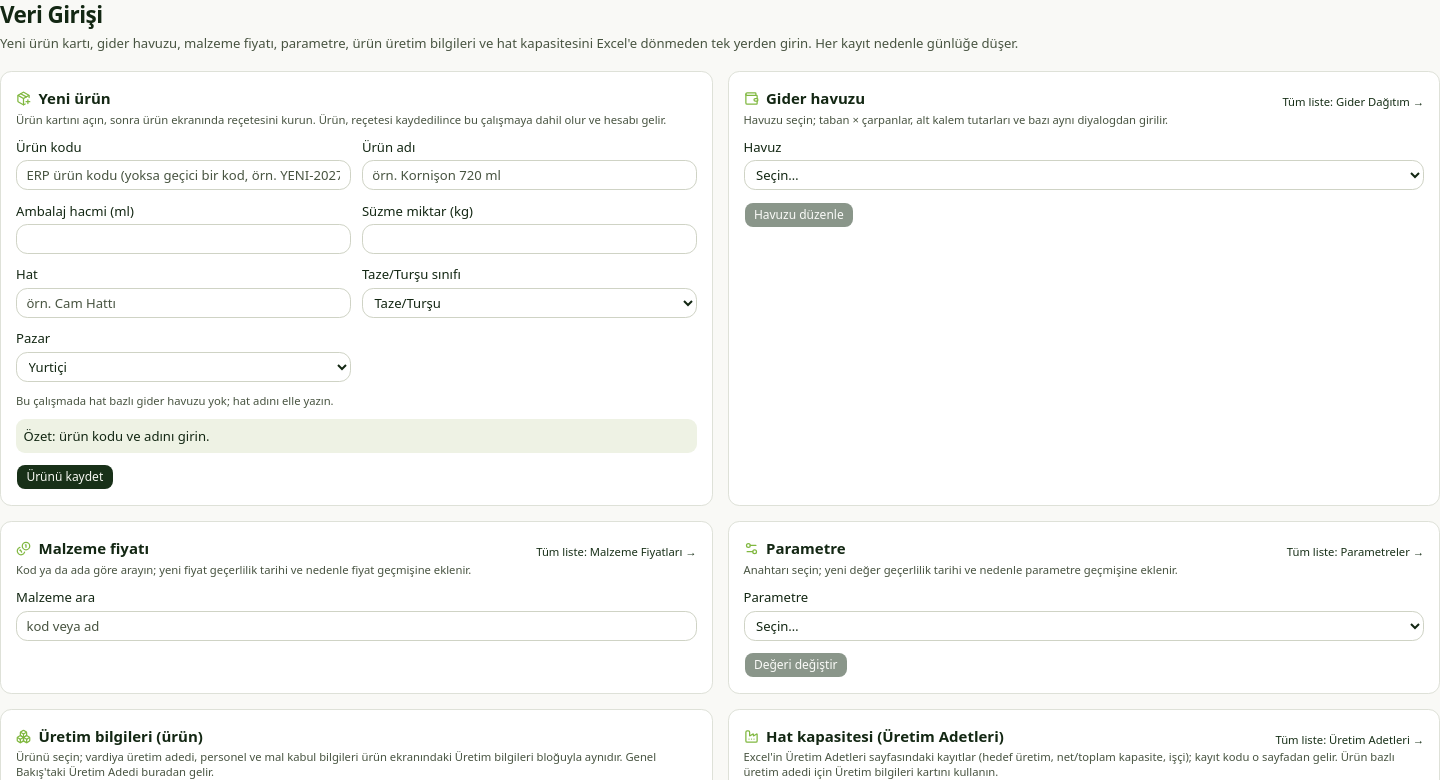
Scenario: VeriGirisi › parametre kartı: anahtar seç → değer + tarih + neden → kayıt ve sorgu tazeleme mesajı
Select "kur.USD — USD/TL kuru" in the dropdown labelled "Parametre" at (1084, 626), box [744,610,1424,640]
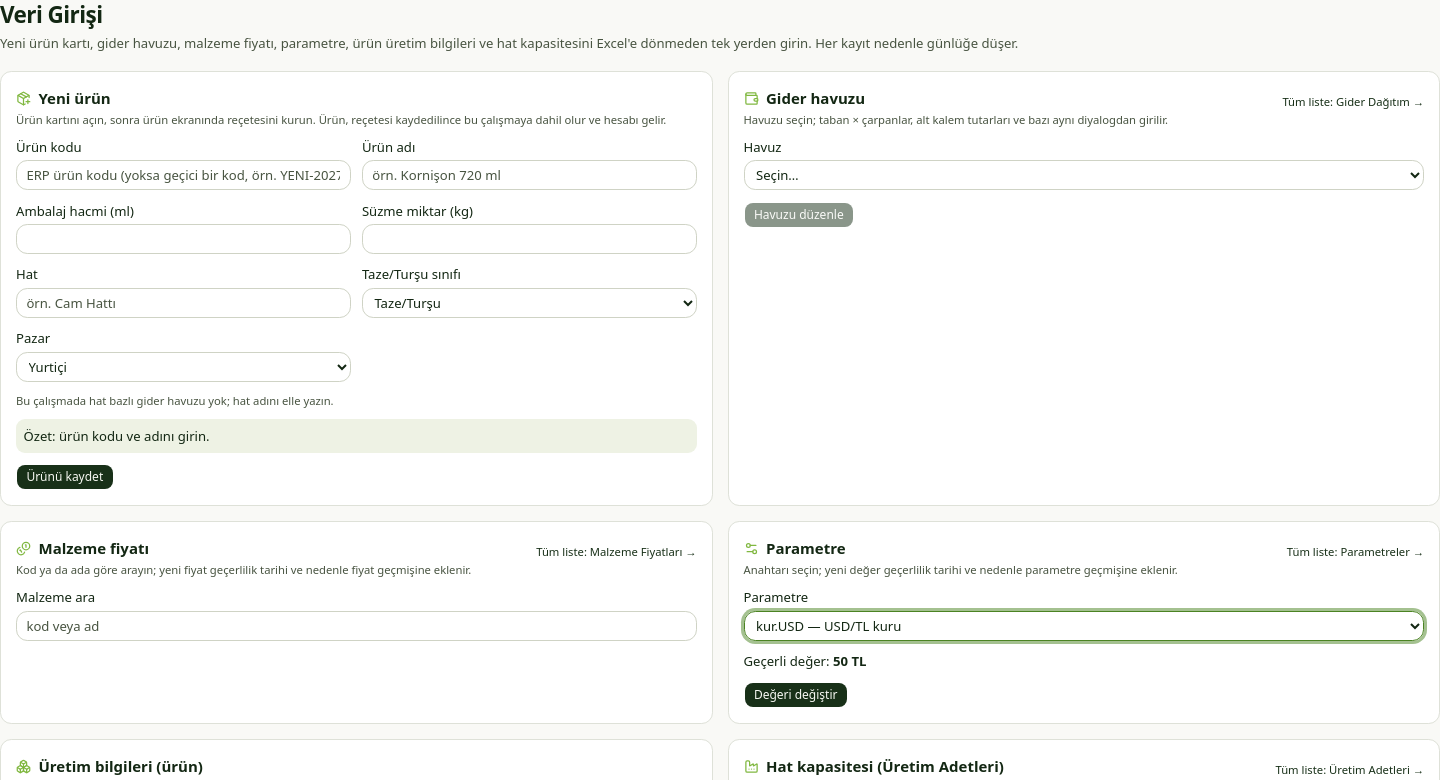
expect the text "Geçerli değer: 50 TL" is shown: met, box [744,652,866,670]
Click the button "Değeri değiştir".
click(796, 695)  # box [744,682,848,708]
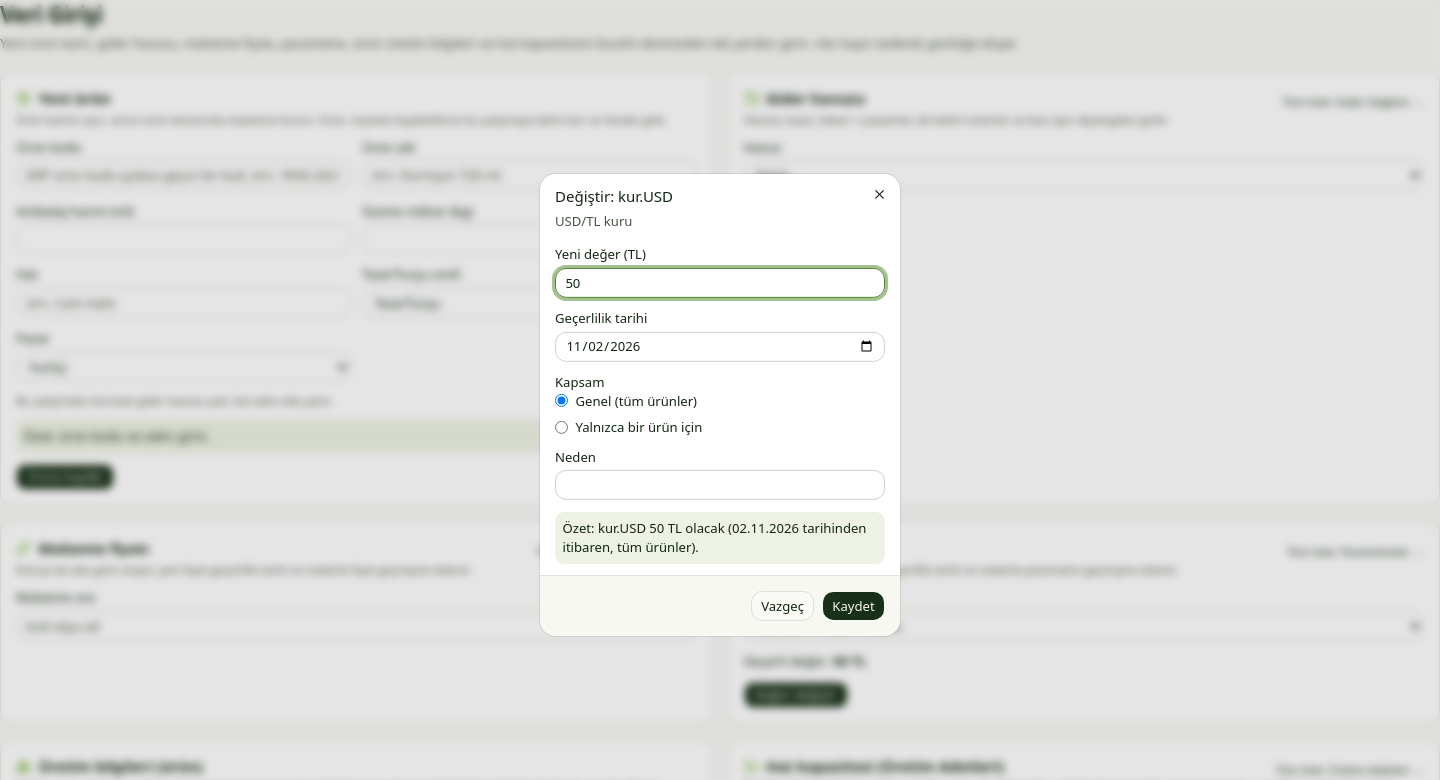
Clear the field labelled "Yeni değer (TL)" at (720, 283), box [555,268,885,298]
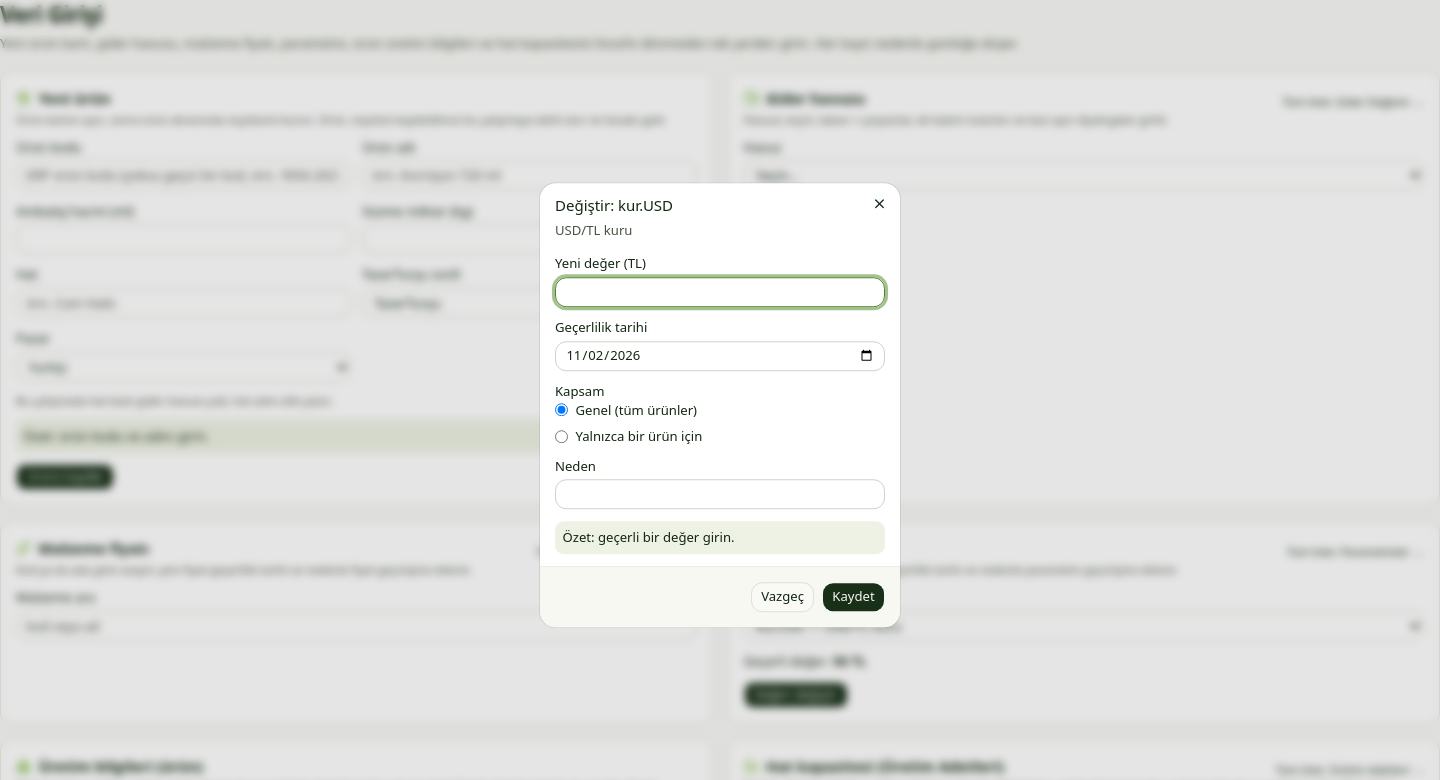
Type "55" into the field labelled "Yeni değer (TL)".
click(720, 292); type("55")  # box [555,277,885,307]
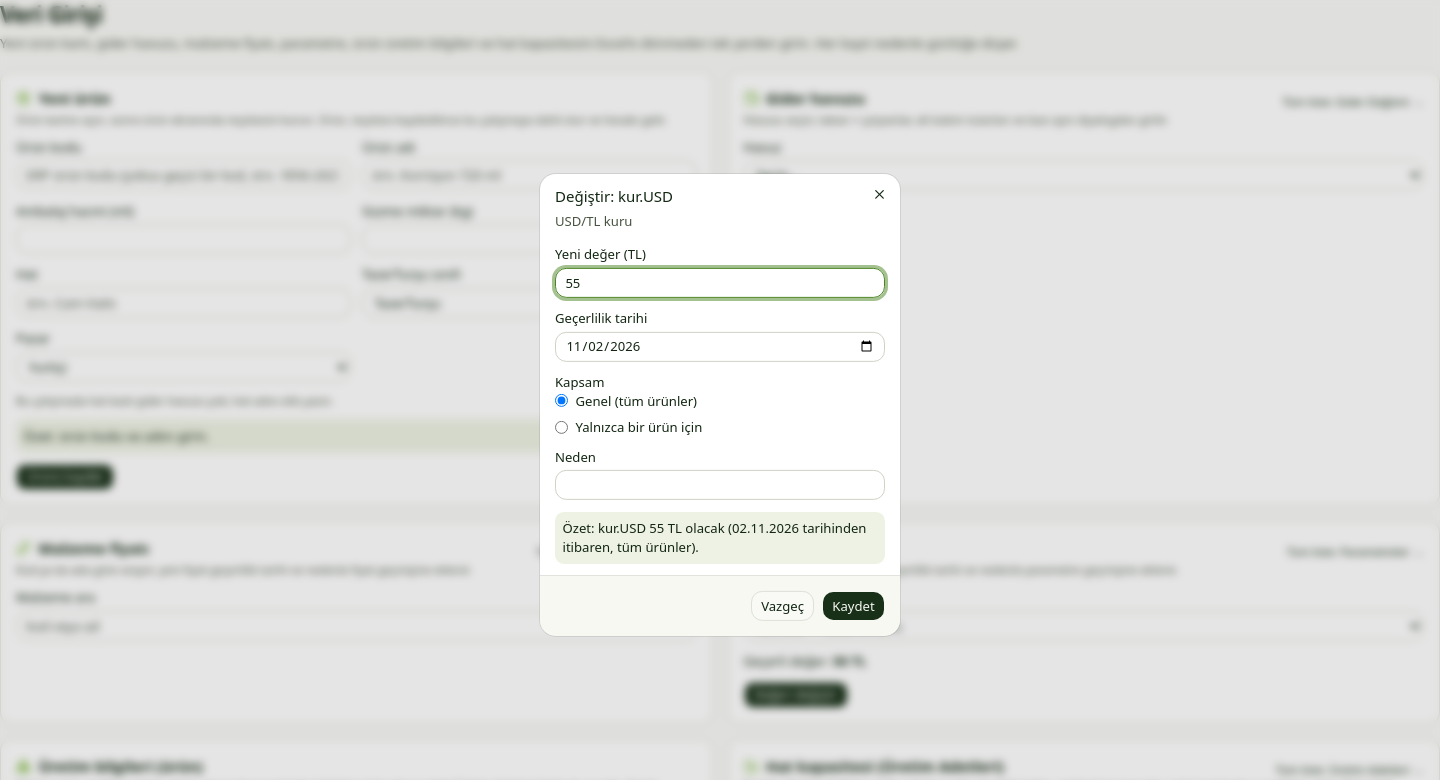
Type "Kur güncellemesi" into the field labelled "Neden".
click(720, 485); type("Kur güncellemesi")  # box [555,470,885,500]
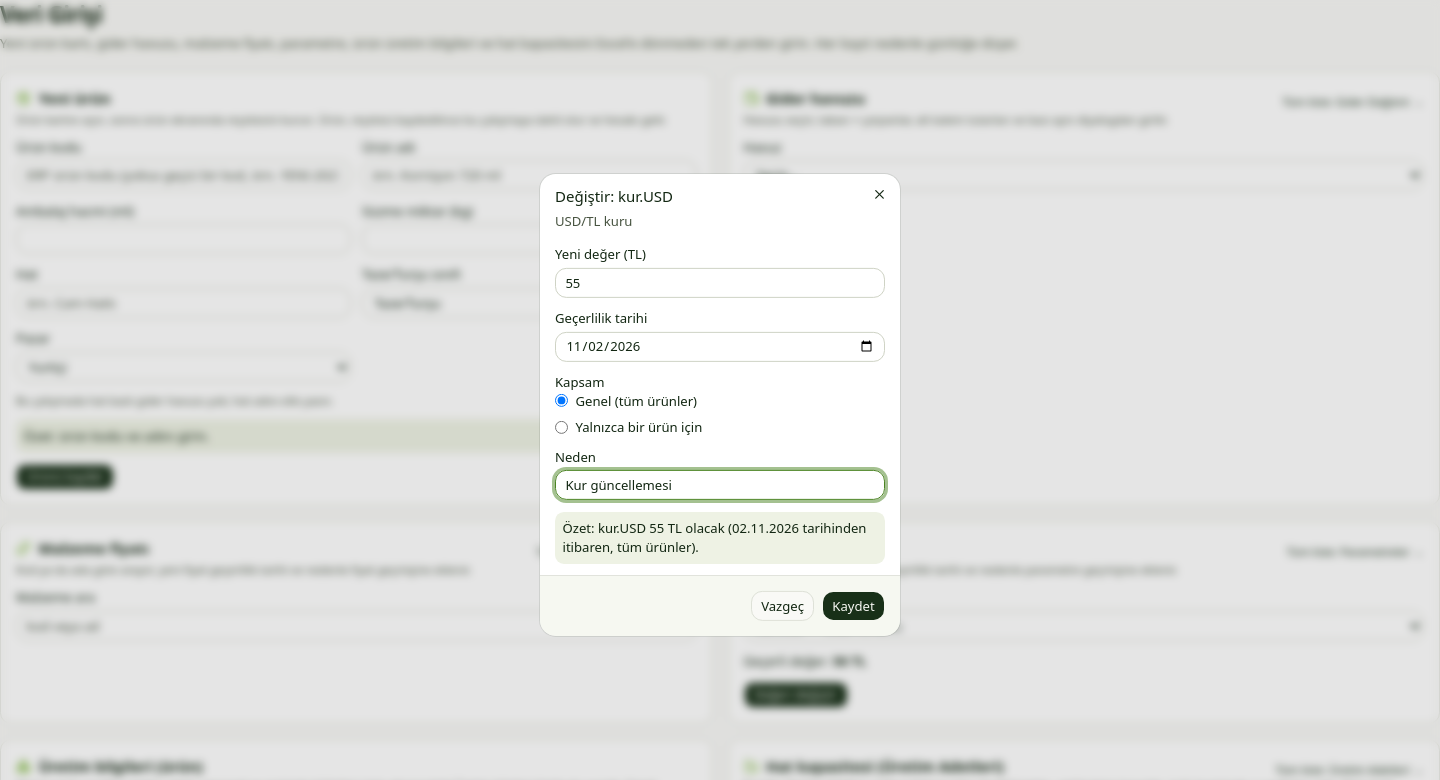
Click the button "Kaydet".
click(853, 606)  # box [822,591,885,621]
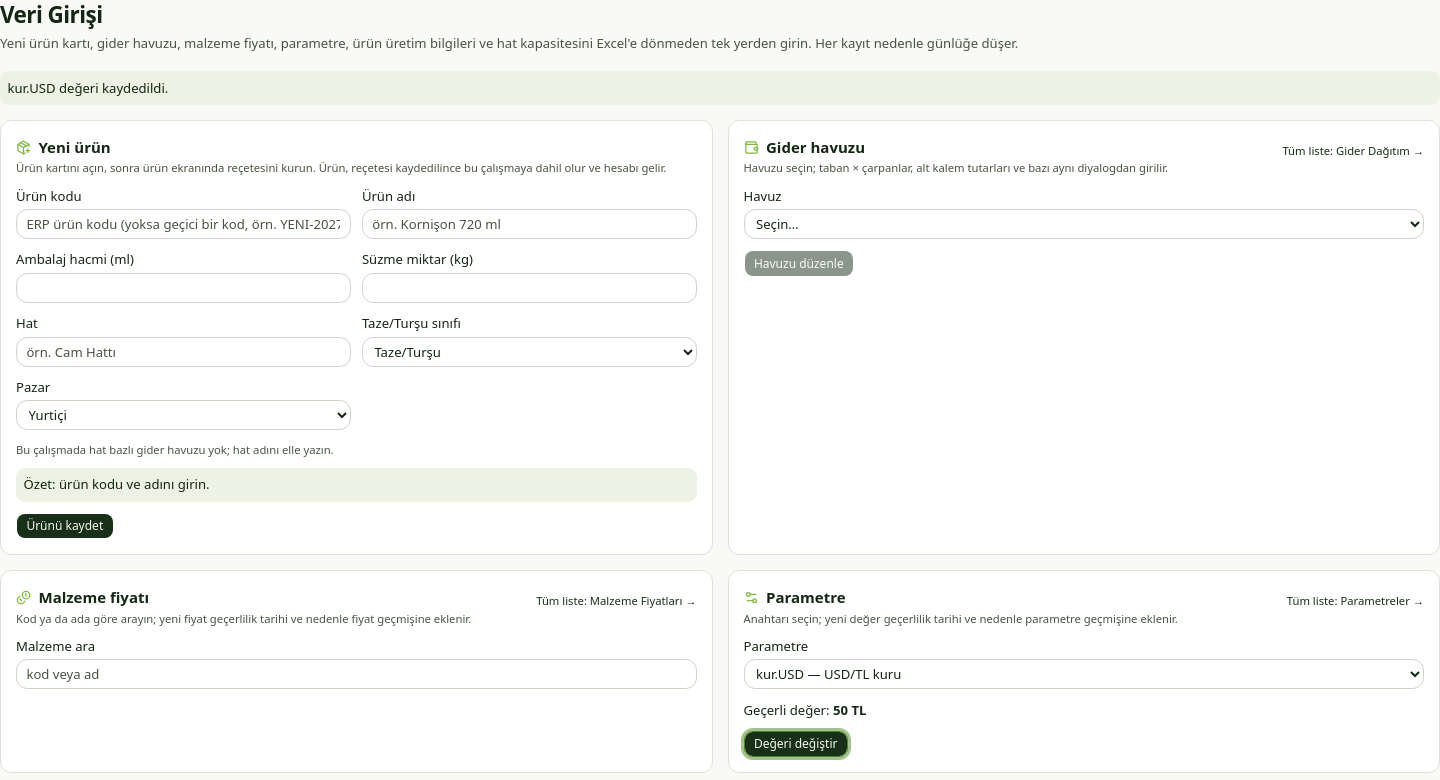
expect the message reads "kur.USD değeri kaydedildi.": met, box [8,79,168,97]
